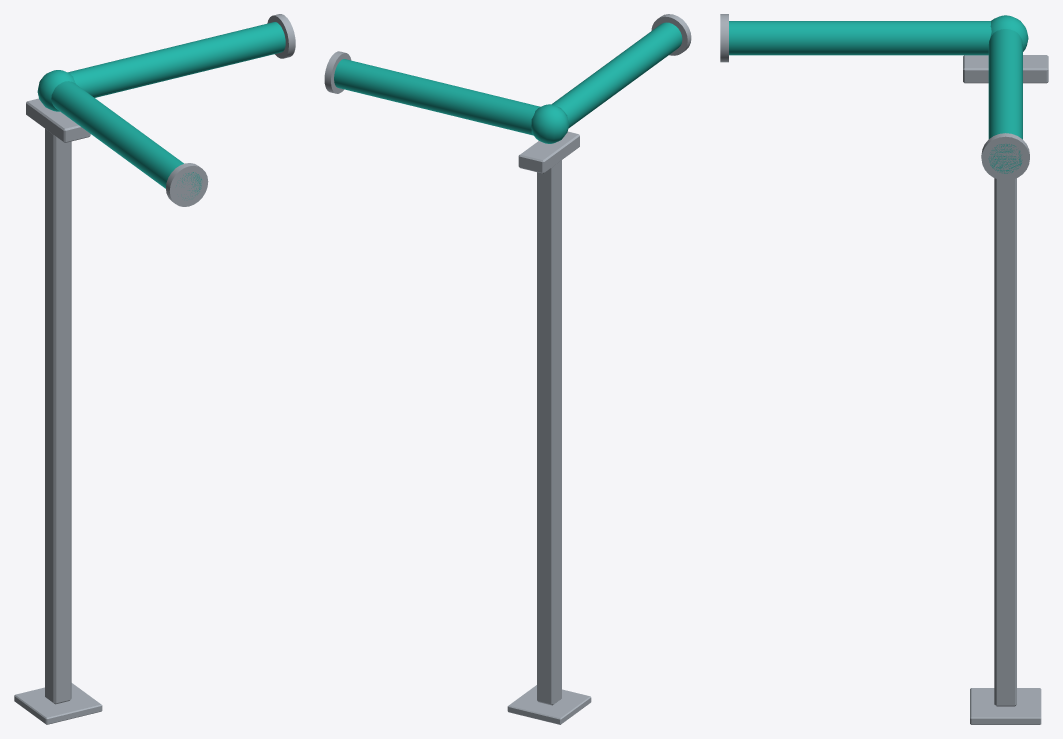
The model's file is pipe-run-corner.glb.
3 views of the same model, side by side, from view 1: azimuth 30°, elevation 25°; view 2: azimuth 150°, elevation 25°; view 3: azimuth 270°, elevation 25° (orthographic). The views are drawn at different scales.
Parts seen in each view (by area): view 1: pipe-run-corner; view 2: pipe-run-corner; view 3: pipe-run-corner.
Boxes of the visible parts, x1=… form: pipe-run-corner: x1=14, y1=14, x2=295, y2=724; pipe-run-corner: x1=324, y1=14, x2=691, y2=724; pipe-run-corner: x1=720, y1=14, x2=1048, y2=724.
Size of the model in its own units: 1.12 by 2.68 by 1.15.
